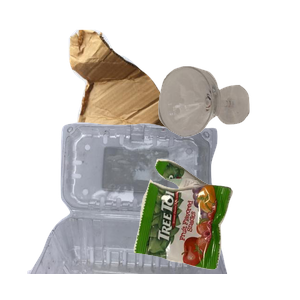cardboard: (66, 27, 242, 197)
glass: (156, 64, 300, 194)
plastic: (25, 120, 245, 300)
trash: (131, 156, 300, 300)
